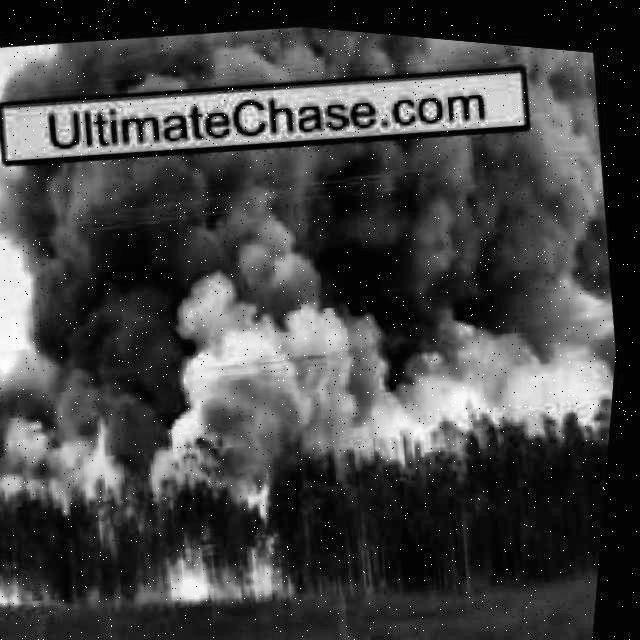Fire: (159, 454, 308, 611), (79, 391, 141, 515), (0, 552, 45, 610)
Smoke: (85, 77, 636, 492), (0, 0, 594, 141), (0, 161, 138, 428), (0, 406, 99, 523)
